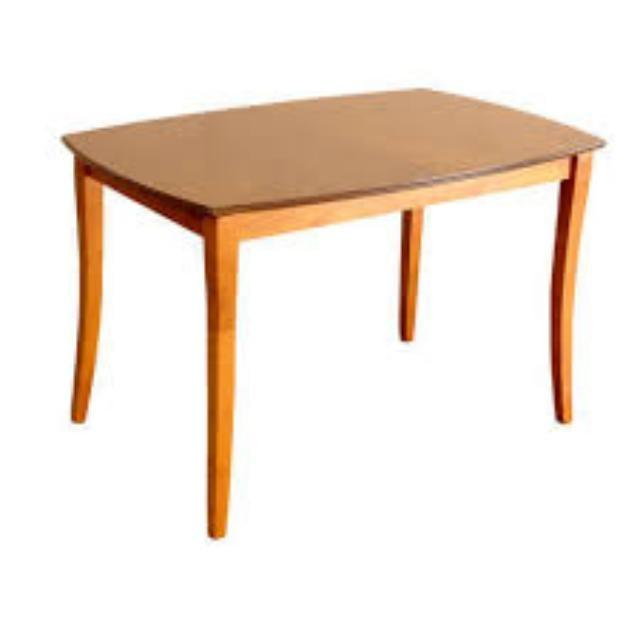obstacle: (46, 27, 624, 560)
